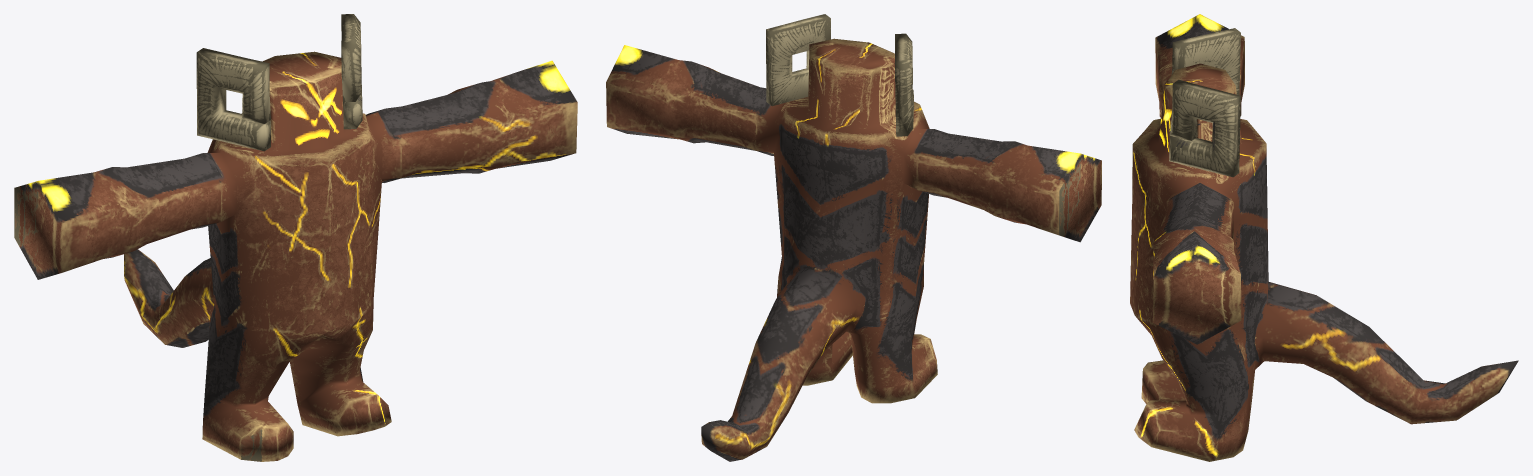
The model's file is Monster.fbx.
3 views of the same model, side by side, from view 1: azimuth 30°, elevation 25°; view 2: azimuth 150°, elevation 25°; view 3: azimuth 270°, elevation 25° (orthographic). The views are drawn at different scales.
Visible parts, largest first — view 1: polySurface3352; view 2: polySurface3352; view 3: polySurface3352.
Boxes of the visible parts, x1,y1,x2,y2 form: polySurface3352: [14, 14, 577, 461]; polySurface3352: [606, 14, 1101, 461]; polySurface3352: [1130, 14, 1518, 461].
Size of the model in its own units: 14.67 by 10.61 by 10.24.
